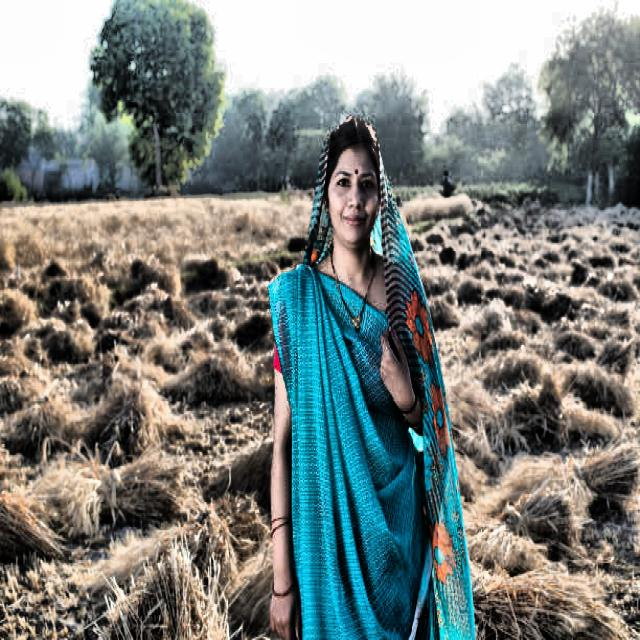Human: (257, 110, 478, 640)
